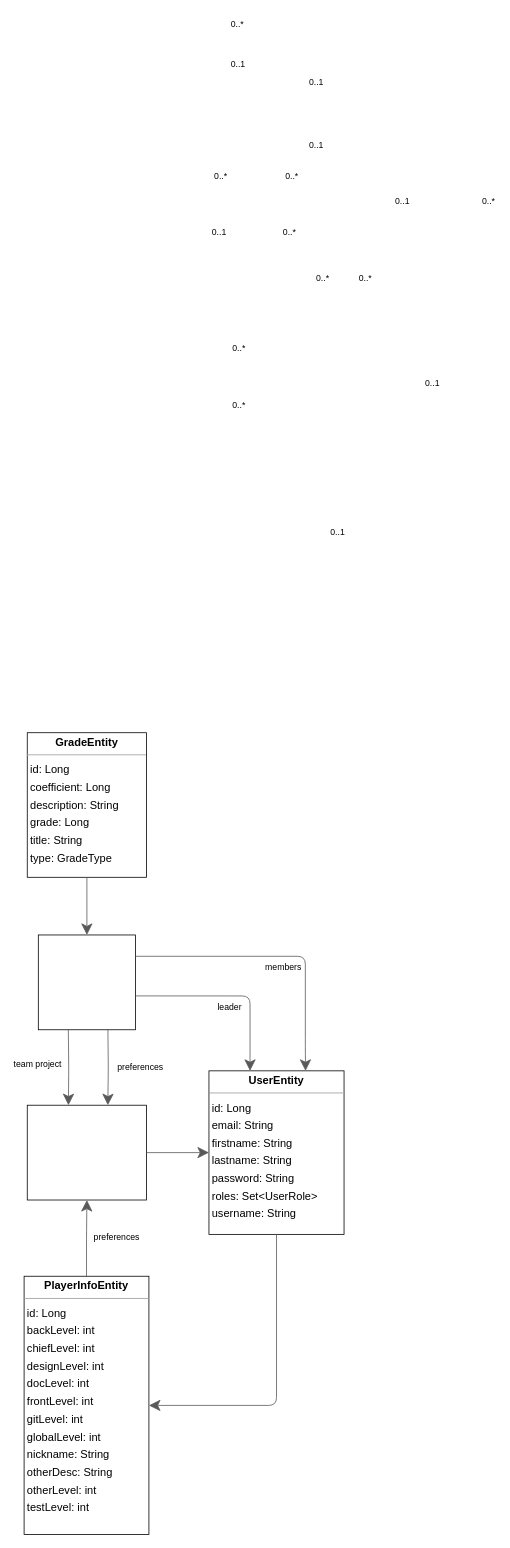
Image size: 510x1548. Some labels were removed from this diagram. The shapes that lost their labels are listed below. From the top down, each one's box as (x1, y1, x2, y2) in pixels, then its label:
(38, 934, 135, 1030): TeamEntity id: Long github: String name: String
(26, 1104, 147, 1200): ProjectEntity id: Long description: String name: String
